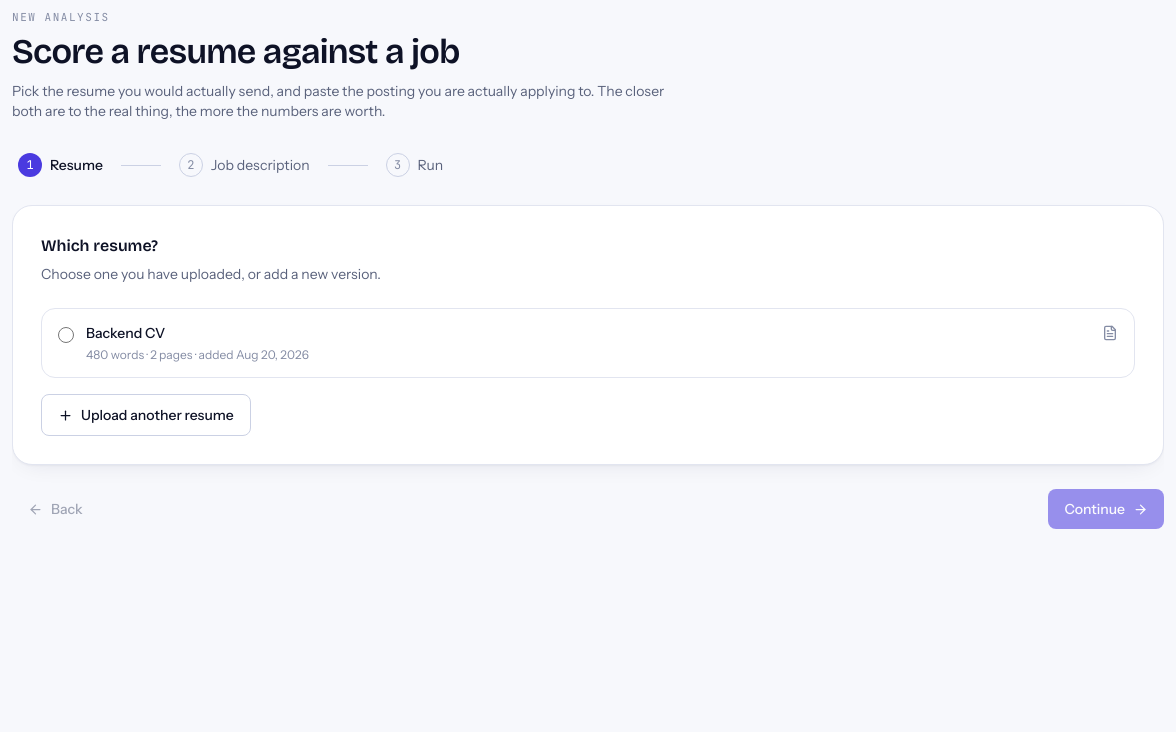
Test case: NewAnalysis › keeps the person on the flow when the run fails
Check: the text "Backend CV" is shown, box [86,324,165,342]
Step 1. Click the radio button → (66, 335), box [58,327,74,343]
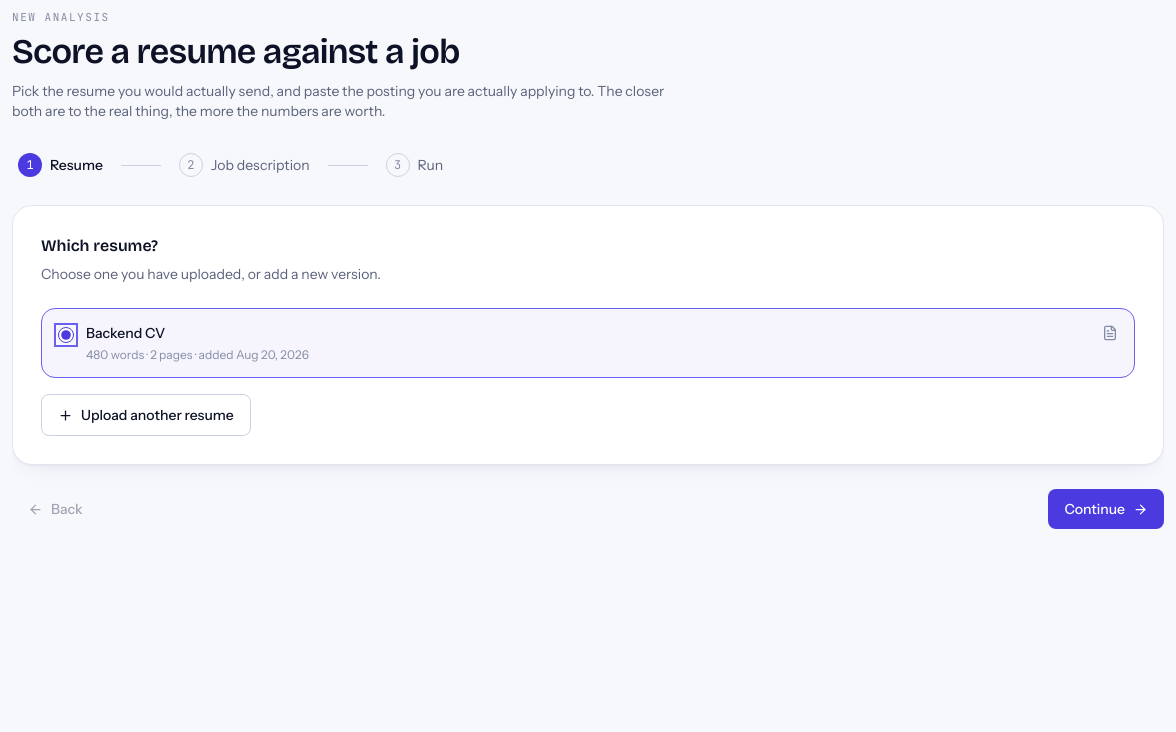
Step 2. Click the button "Continue" → (1106, 509), box [1048,489,1164,529]
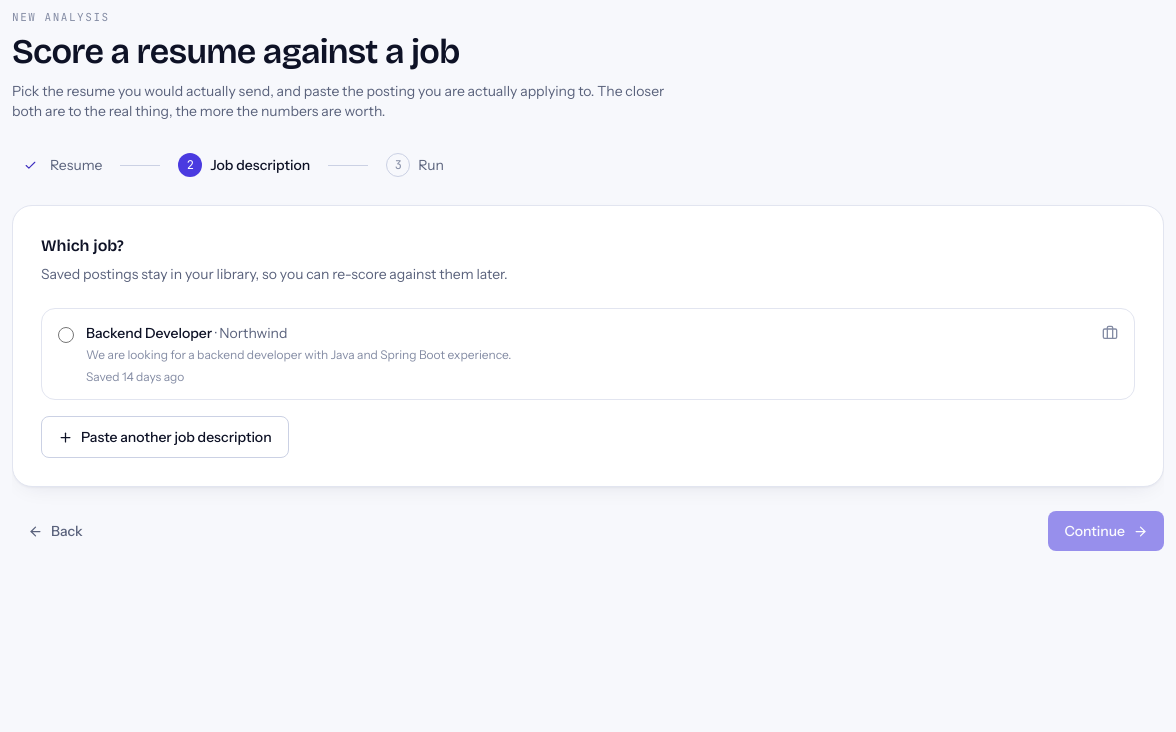
Check: the heading "Which job?" is shown, box [41,236,124,255]
Step 3. Click the radio button → (66, 335), box [58,327,74,343]
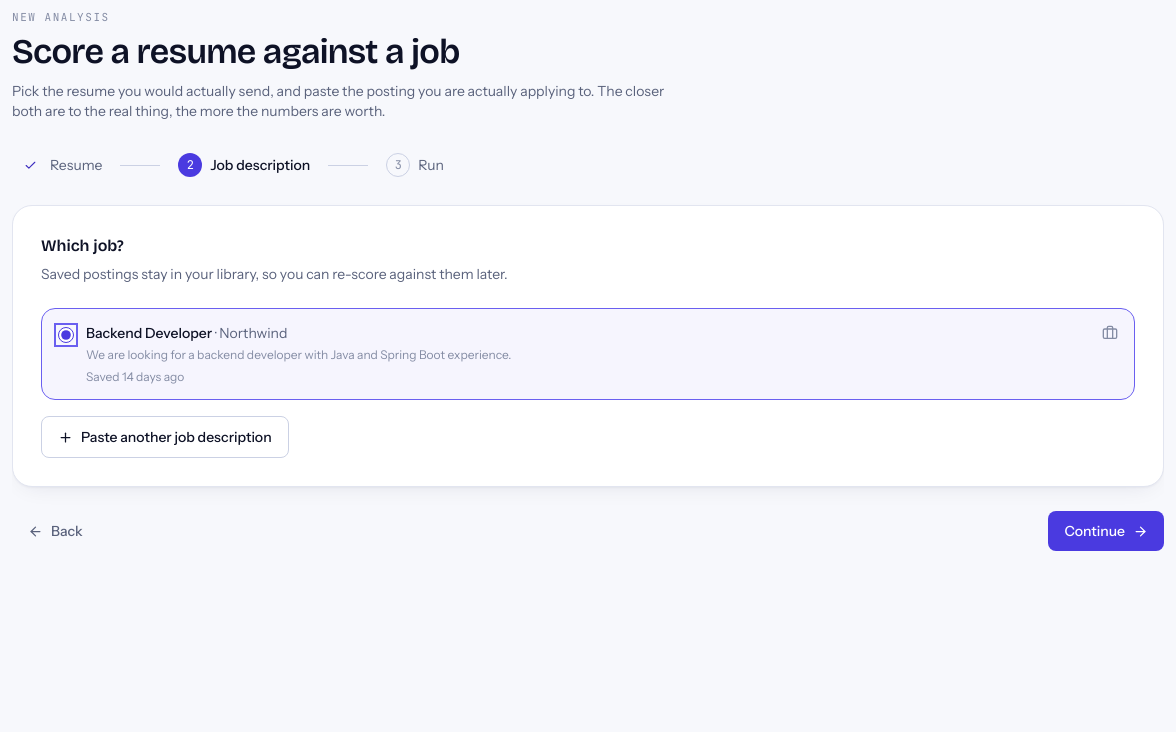
Step 4. Click the button "Continue" → (1106, 531), box [1048,511,1164,551]
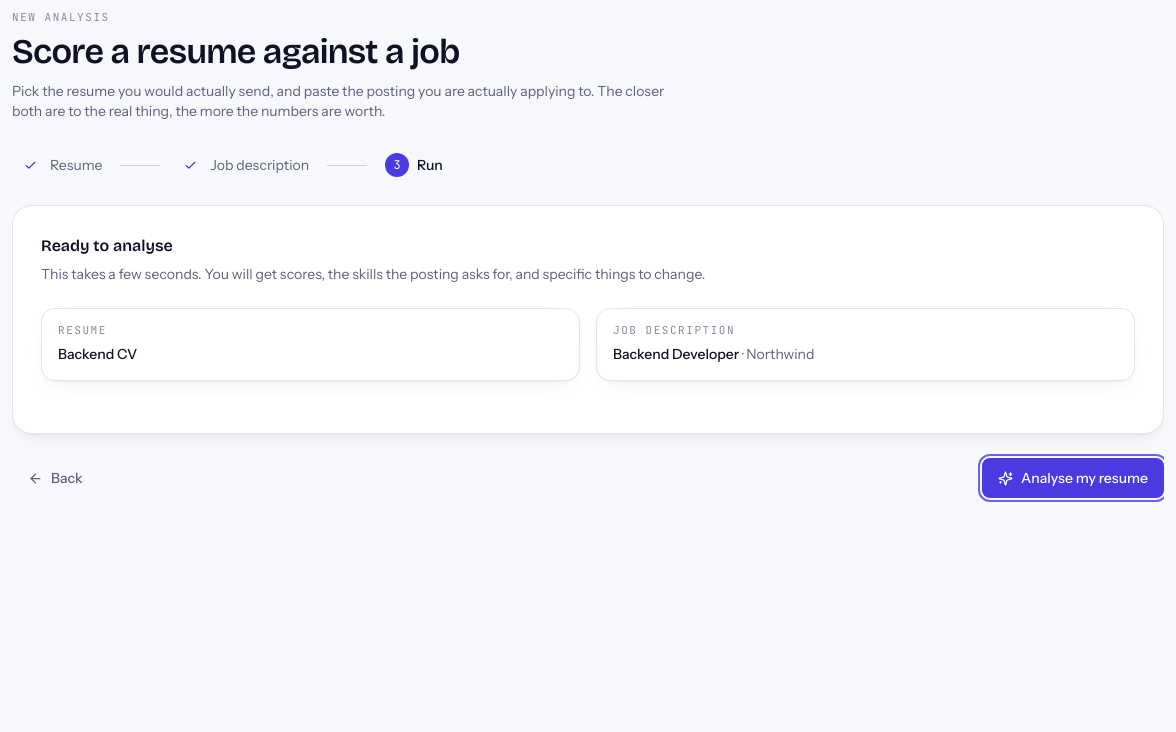
Step 5. Click the button "Analyse my resume" → (1073, 478), box [982,458,1164,498]
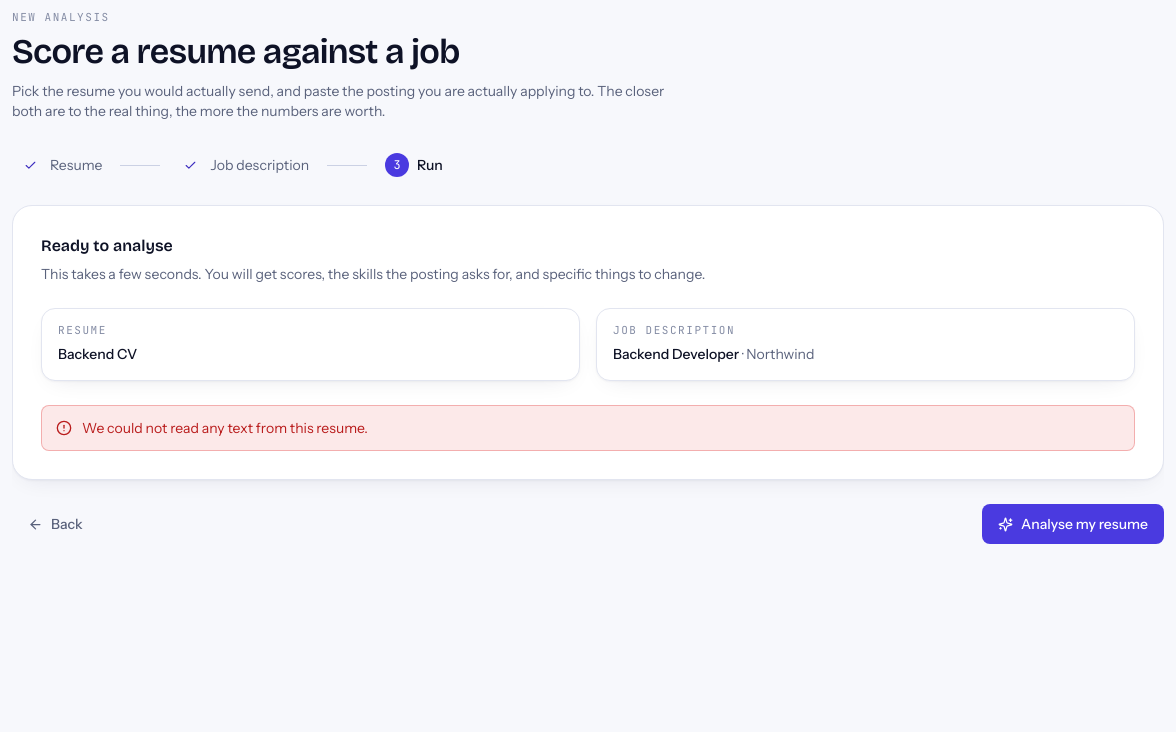
Check: the heading "Ready to analyse" is shown, box [41,236,173,255]
Check: the message reads "We could not read any text from this resume.", box [82,419,368,437]
